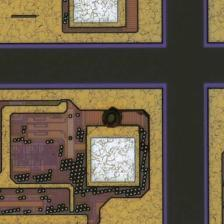PARTICLE: (101, 107, 124, 130)
